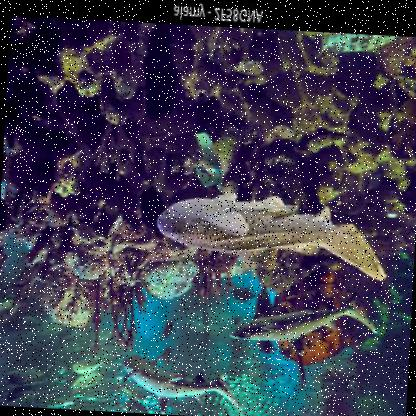zebra_shark: (140, 159, 394, 319)
